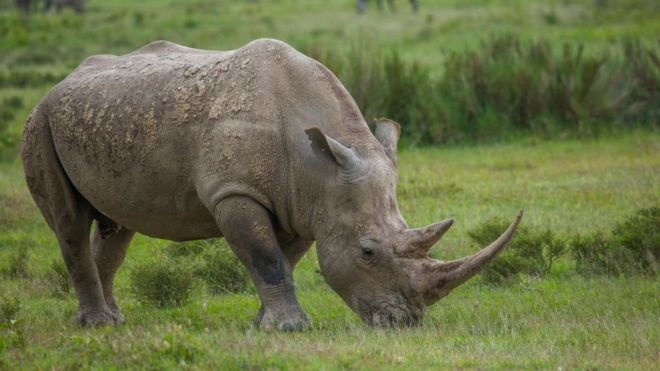rhino: (18, 29, 528, 349)
